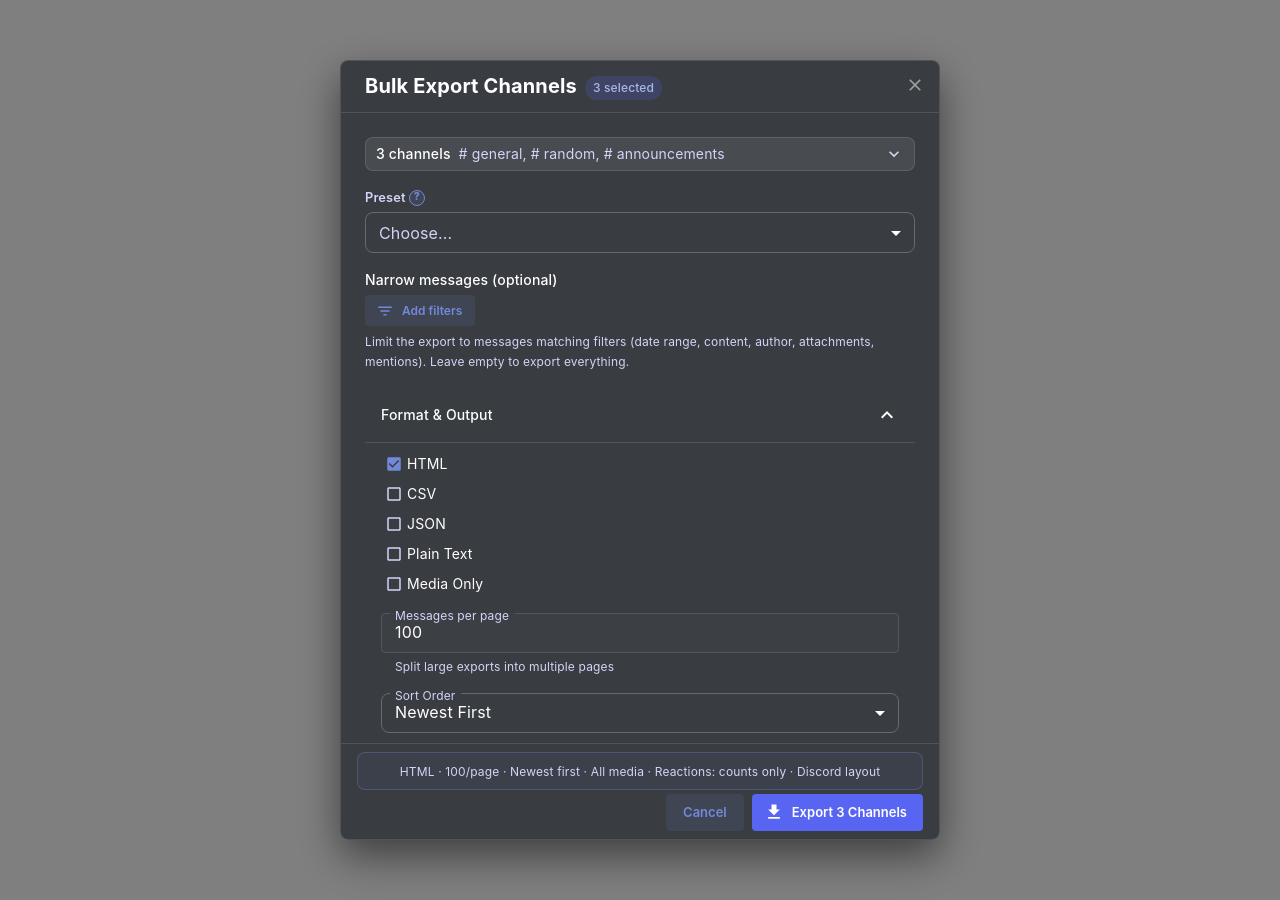
BulkExportDialog › Config options › should disable messages per page when Media Only format selected
Expected: the number field labelled "Messages per page" is enabled, [381,613,899,653]
Click the text "Media Only": (445, 584) [407,574,483,594]
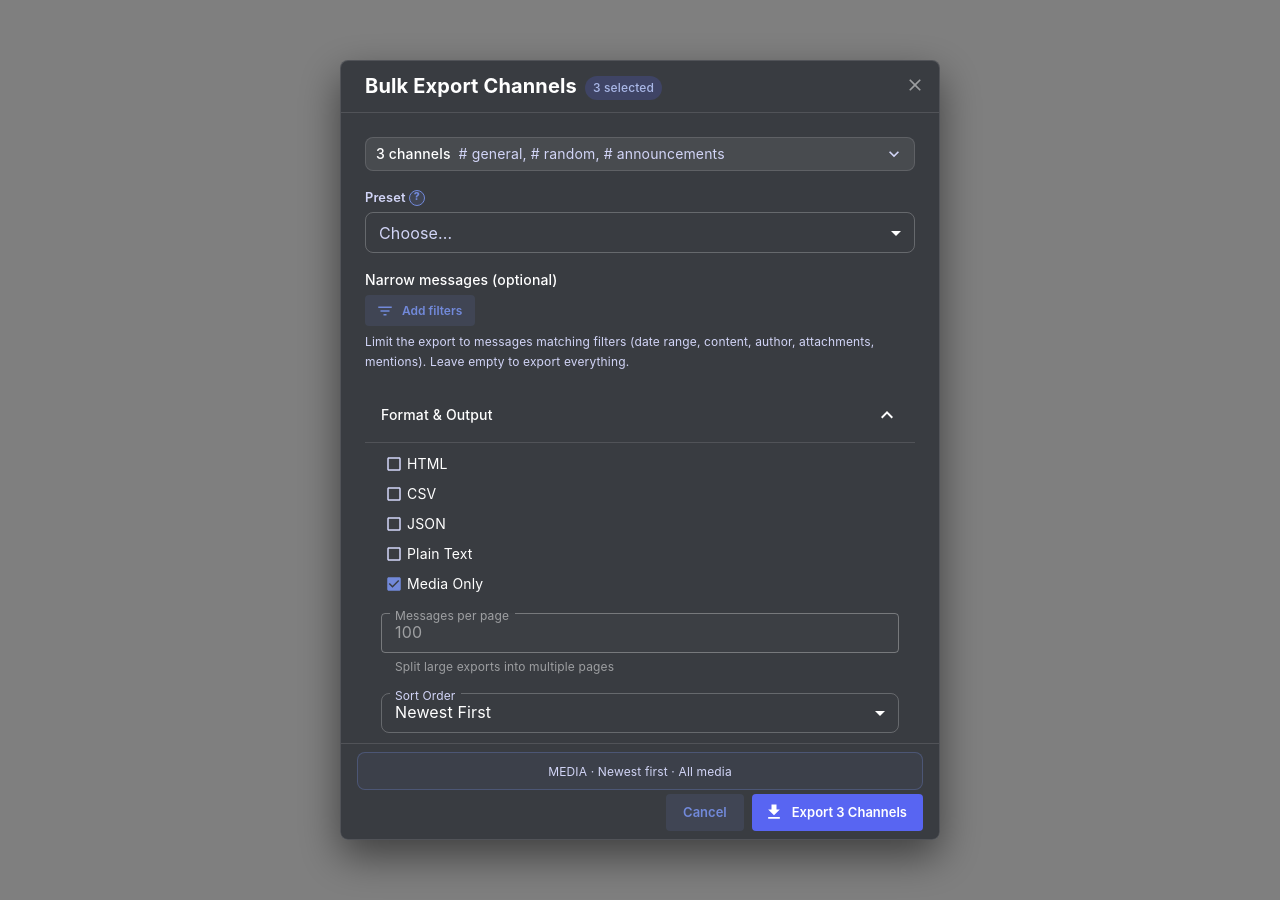
Expected: the number field labelled "Messages per page" is disabled, [381,613,899,653]
